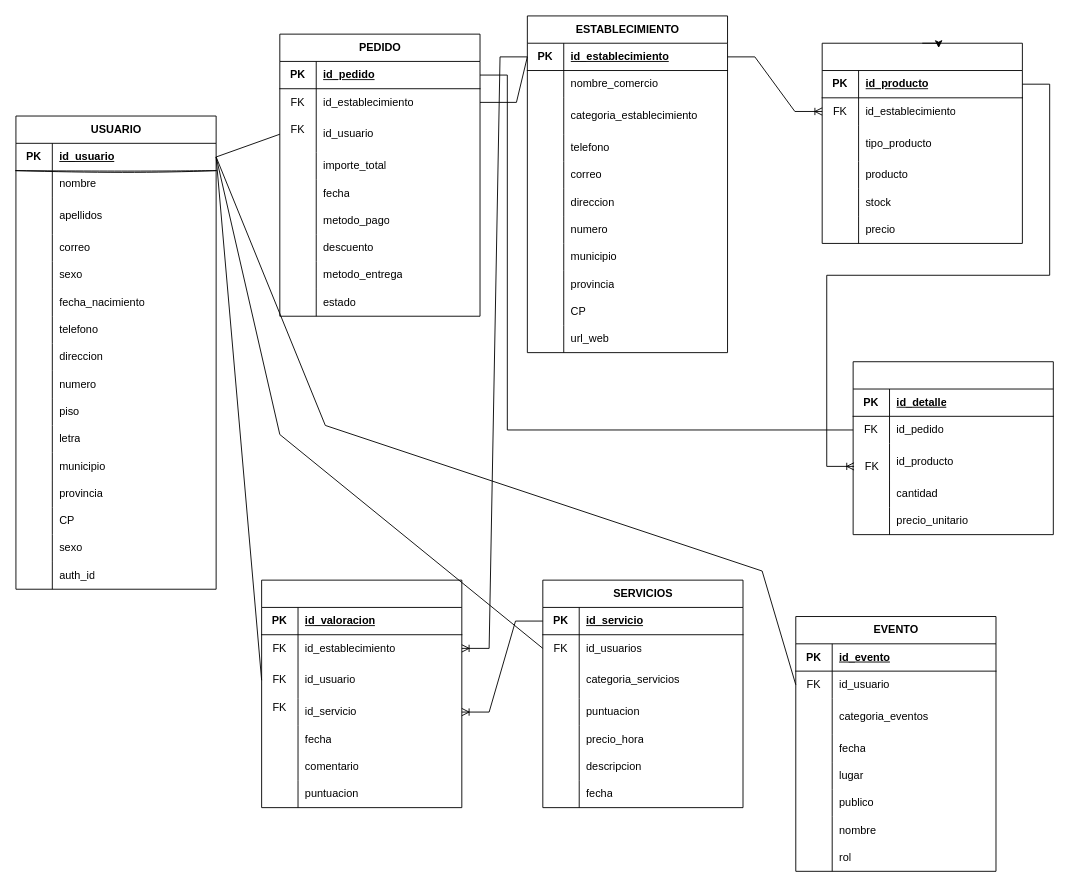
The diagram is 1073 pixels wide and 887 high, and some of its shapes have lost their labels. Here are the shapes that lost their labels. From the top down, the box of each, then its label:
(821, 42, 1022, 243): PRODUCTOS
(852, 361, 1053, 535): Detalle_pedido
(261, 579, 462, 808): VALORACIONES
